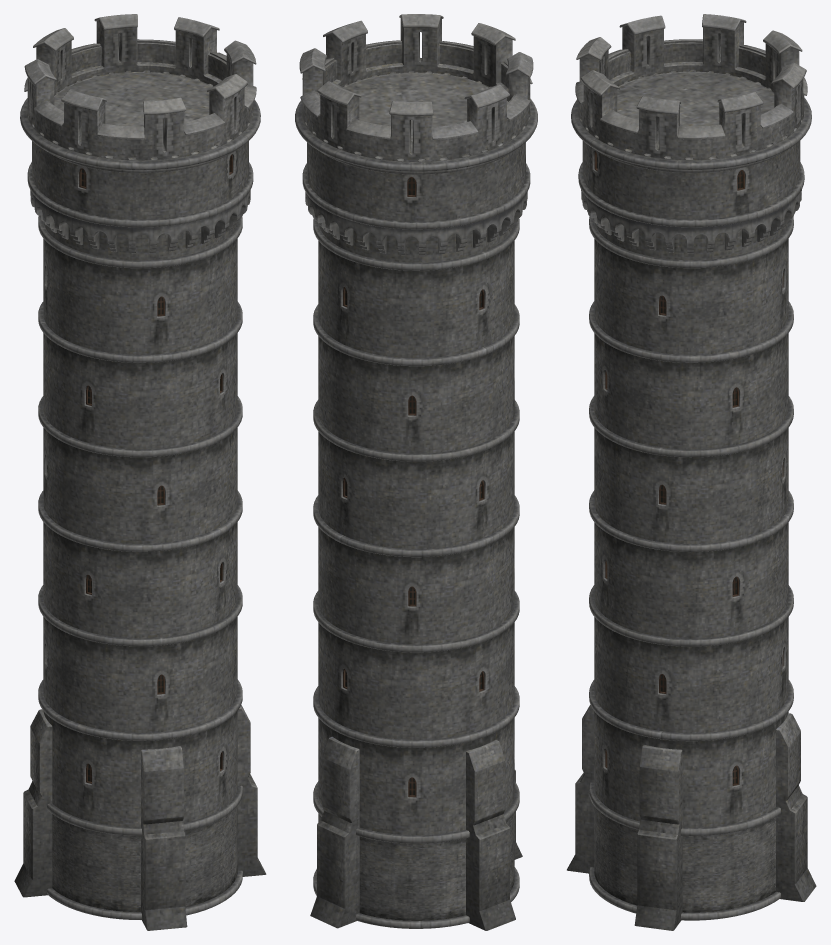
Rendered from Castle_Tower_Round_F4.fbx.
3 renders of one model, left to right at view 1: azimuth 30°, elevation 25°; view 2: azimuth 150°, elevation 25°; view 3: azimuth 270°, elevation 25°, orthographic.
Parts seen in each view (by area): view 1: Castle_Tower_Round_F.004; view 2: Castle_Tower_Round_F.004; view 3: Castle_Tower_Round_F.004.
Boxes of the visible parts, left/top/right/bottom form: Castle_Tower_Round_F.004: left=14, top=14, right=266, bottom=930; Castle_Tower_Round_F.004: left=295, top=14, right=537, bottom=930; Castle_Tower_Round_F.004: left=567, top=14, right=816, bottom=930.
Size of the model in its own units: 771 by 2791 by 771.
